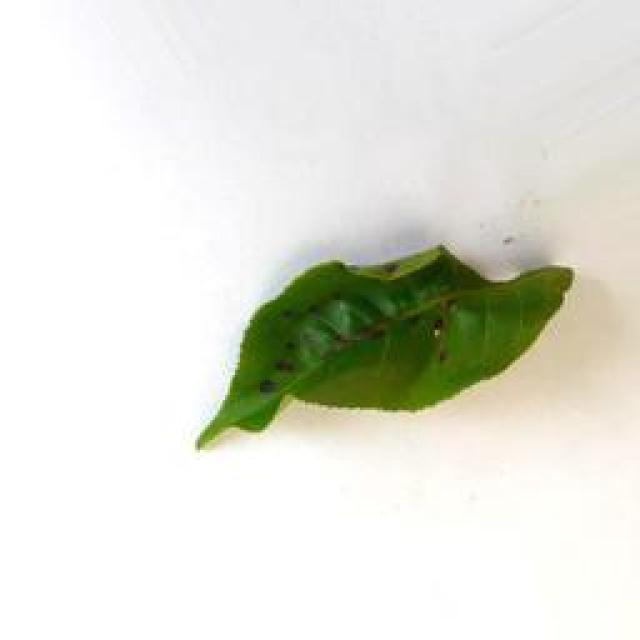Helopeltis: (195, 233, 580, 462)
